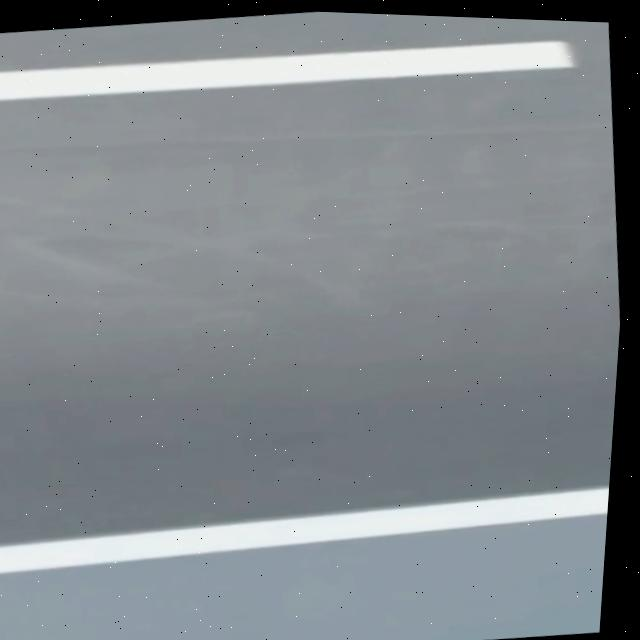center: (0, 40, 575, 100)
left: (0, 486, 609, 572)
